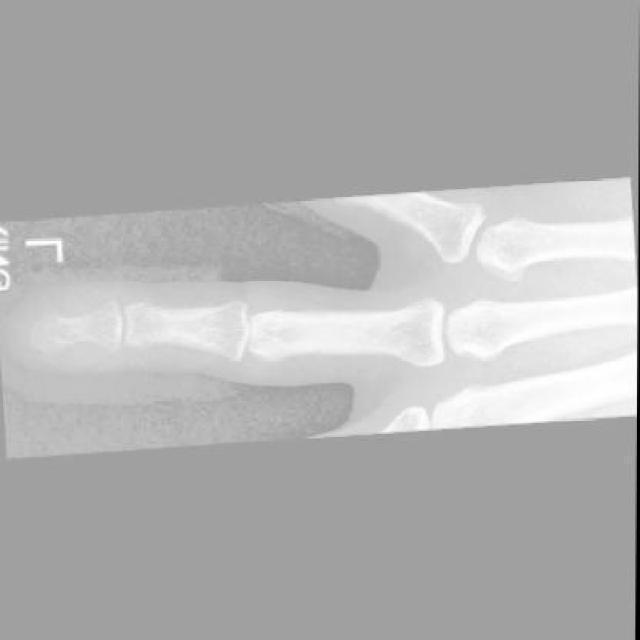Fracture: (22, 309, 87, 366)
